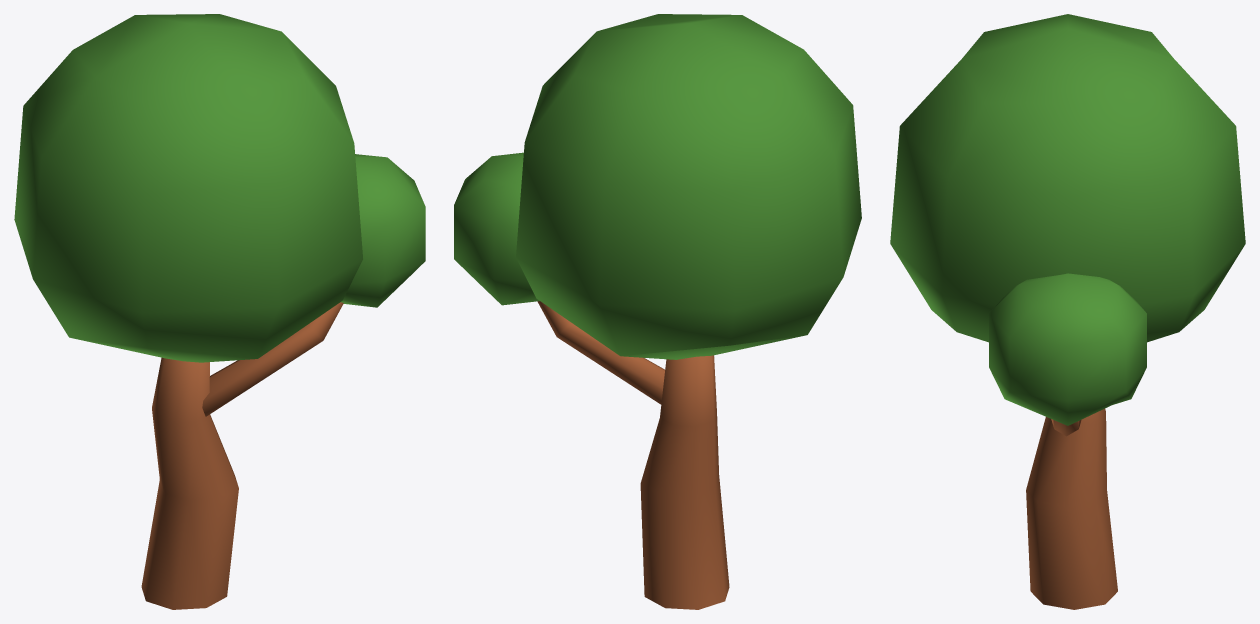
File: Oak_Tree_03.fbx
3 renders of one model, left to right at view 1: azimuth 30°, elevation 25°; view 2: azimuth 150°, elevation 25°; view 3: azimuth 270°, elevation 25°, orthographic.
Parts seen in each view (by area): view 1: Oak_Tree_03; view 2: Oak_Tree_03; view 3: Oak_Tree_03.
Boxes of the visible parts, x1,y1,x2,y2 form: Oak_Tree_03: [14, 14, 425, 609]; Oak_Tree_03: [454, 14, 861, 609]; Oak_Tree_03: [890, 14, 1245, 609].
Bounding box in the file's own units: 1786 × 2551 × 1459.
